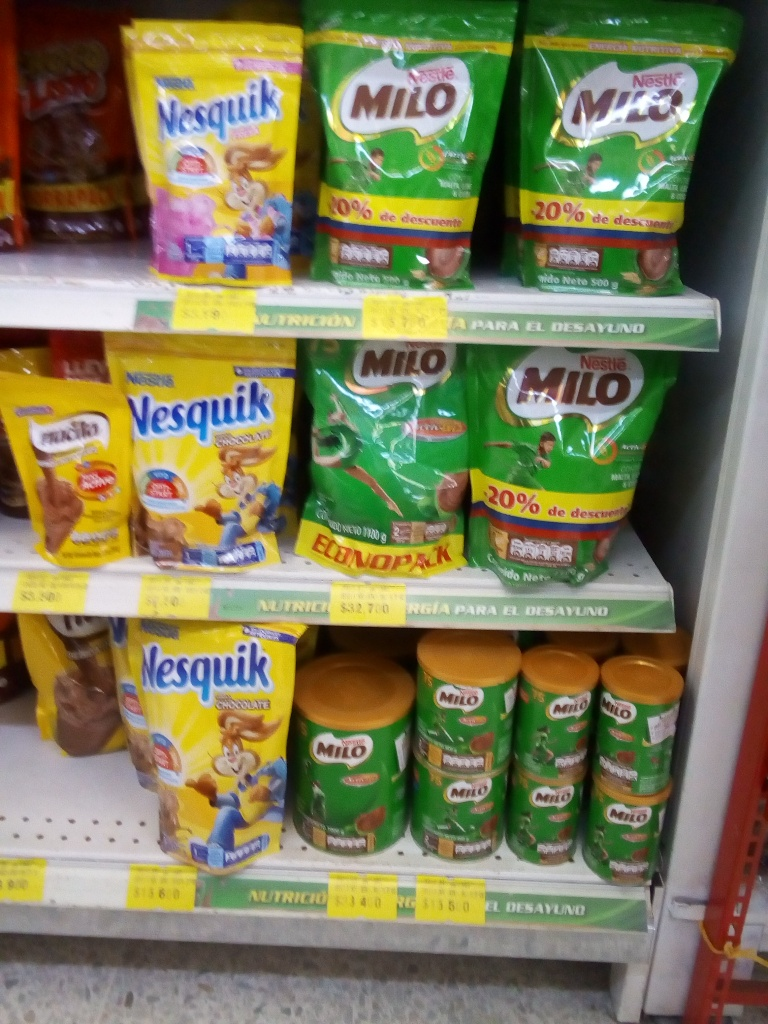COL0170103DYP36000: (13, 2, 135, 252)
COL0170203DYP50000: (521, 2, 715, 299)
COL0170203LAT20000: (523, 646, 595, 785)
COL0170203LAT40000: (410, 637, 513, 770)
COL0170303DYP20000: (114, 334, 302, 570)
COL0170305DYP20000: (129, 17, 309, 278)
